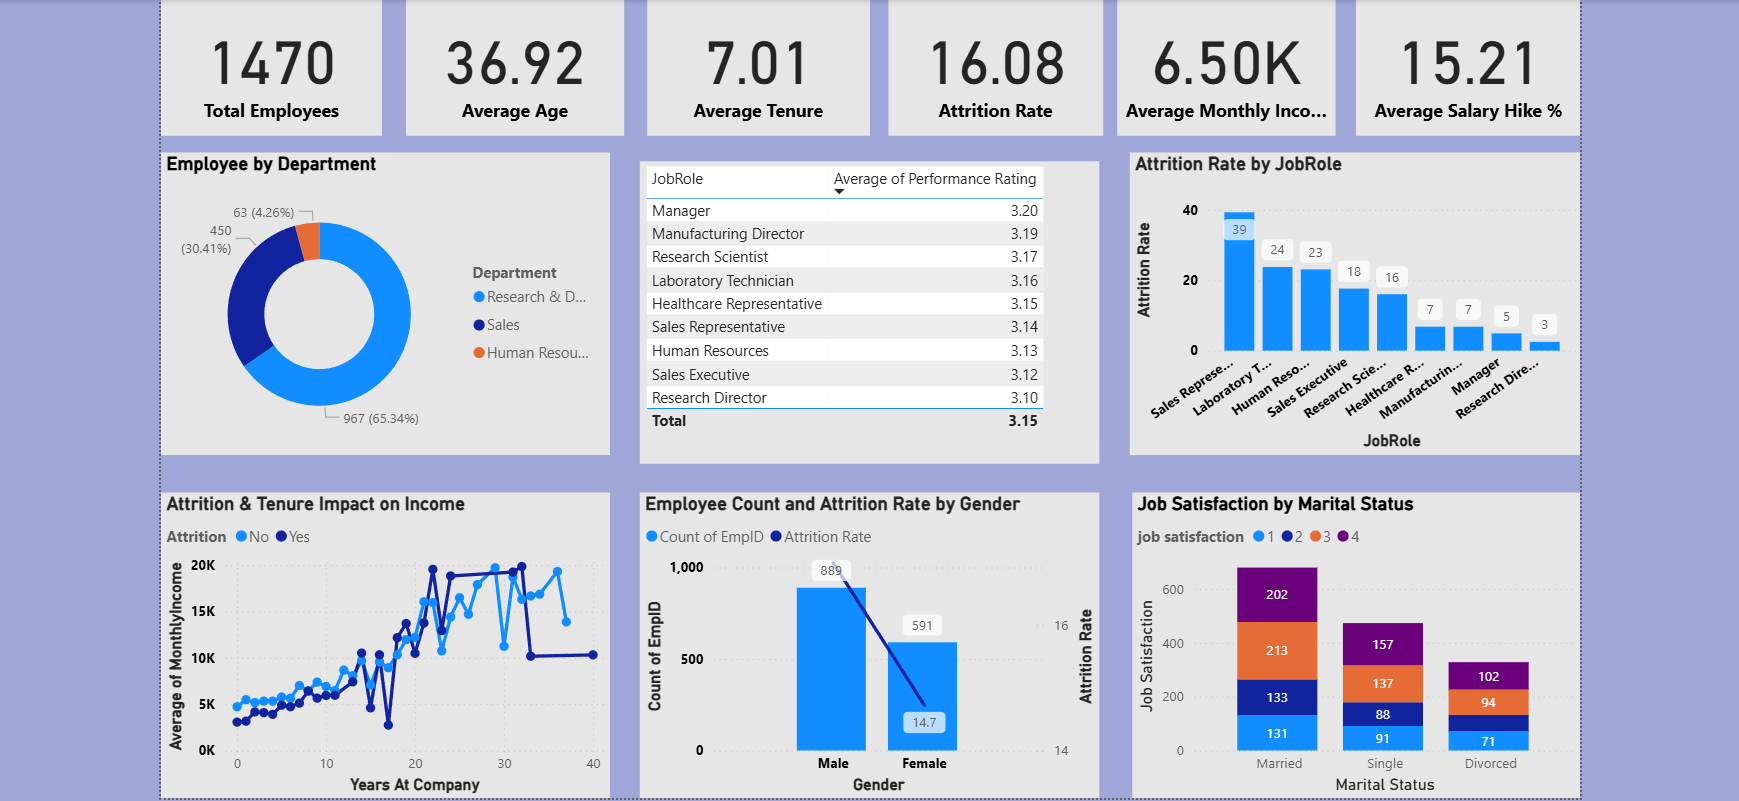

What the dashboard file says about the page in this screenshot:
{"tool":"powerbi","page":{"name":"Page 1","canvas":[1280,720],"ordinal":0},"visuals":[{"type":"card","title":"Attrition Rate","fields":{"Values":["HR_Analytics.Attrition Rate"]},"box":[655.4,0,193.2,122.3],"z":0},{"type":"card","title":"Total Employees","fields":{"Values":["Count(HR_Analytics.EmpID)"]},"box":[0,0,199.3,122.3],"z":1000},{"type":"card","fields":{"Values":["Avg(HR_Analytics.MonthlyIncome)"]},"box":[862.1,0,196.9,122.3],"z":2000},{"type":"card","fields":{"Values":["Avg(HR_Analytics.PercentSalaryHike)"]},"box":[1077.3,0,203,122.3],"z":3000},{"type":"card","fields":{"Values":["Avg(HR_Analytics.Age)"]},"box":[221.3,0,196.9,122.3],"z":4000},{"type":"lineStackedColumnComboChart","fields":{"Category":["HR_Analytics.JobRole"],"Y":["HR_Analytics.Attrition Rate"]},"box":[873.1,137,407.2,272.7],"z":5000},{"type":"donutChart","fields":{"Category":["HR_Analytics.Department"],"Y":["CountNonNull(HR_Analytics.EmpID)"]},"box":[0,137,404.8,272.7],"z":6000},{"type":"lineStackedColumnComboChart","title":"Employee Count and Attrition Rate by Gender","fields":{"Category":["HR_Analytics.Gender"],"Y":["CountNonNull(HR_Analytics.EmpID)"],"Y2":["HR_Analytics.Attrition Rate"]},"box":[431.7,443.9,414.5,276.4],"z":7000},{"type":"lineChart","title":"Attrition & Tenure Impact on Income","fields":{"Category":["HR_Analytics.YearsAtCompany"],"Series":["HR_Analytics.Attrition"],"Y":["Avg(HR_Analytics.MonthlyIncome)"]},"box":[0,443.9,404.8,276.4],"z":8000},{"type":"tableEx","fields":{"Values":["HR_Analytics.JobRole","Avg(HR_Analytics.PerformanceRating)"]},"box":[431.7,145.5,414.5,272.7],"z":9000},{"type":"columnChart","title":"Job Satisfaction by Marital Status","fields":{"Category":["HR_Analytics.MaritalStatus"],"Y":["CountNonNull(HR_Analytics.JobSatisfaction)"],"Series":["HR_Analytics.JobSatisfaction"]},"box":[875.5,443.9,404.8,276.4],"z":10000},{"type":"card","fields":{"Values":["Avg(HR_Analytics.YearsAtCompany)"]},"box":[439,0,200.5,122.3],"z":11000}]}

Visuals, with their boxes on the page's 1280x720 design canvas (x1, y1, x2, y2). These are canvas units, not pixel positions in the 1739x801 screenshot, which may show the page scaled, cropped or inside an application window:
"Attrition Rate" card: 655 0 849 122
"Total Employees" card: 0 0 199 122
card - Avg(HR_Analytics.MonthlyIncome): 862 0 1059 122
card - Avg(HR_Analytics.PercentSalaryHike): 1077 0 1280 122
card - Avg(HR_Analytics.Age): 221 0 418 122
lineStackedColumnComboChart - HR_Analytics.JobRole x HR_Analytics.Attrition Rate: 873 137 1280 410
donutChart - HR_Analytics.Department x CountNonNull(HR_Analytics.EmpID): 0 137 405 410
"Employee Count and Attrition Rate by Gender" lineStackedColumnComboChart: 432 444 846 720
"Attrition & Tenure Impact on Income" lineChart: 0 444 405 720
tableEx - HR_Analytics.JobRole x Avg(HR_Analytics.PerformanceRating): 432 146 846 418
"Job Satisfaction by Marital Status" columnChart: 876 444 1280 720
card - Avg(HR_Analytics.YearsAtCompany): 439 0 640 122
